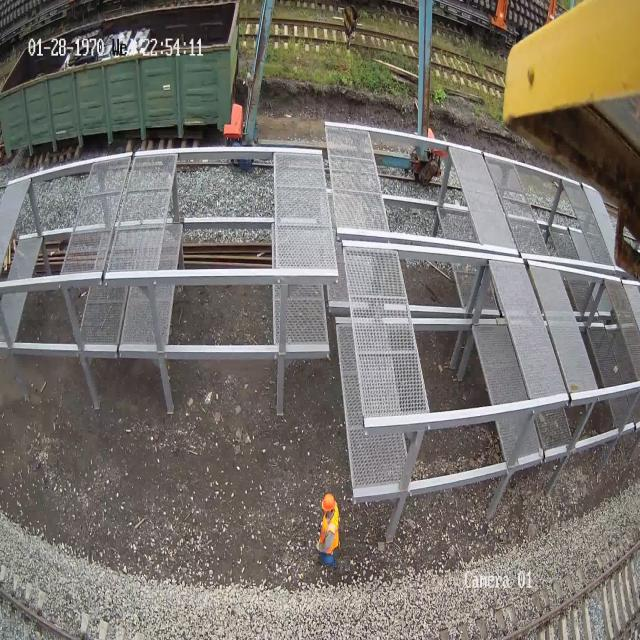Helmet: (321, 493, 335, 511)
Person: (316, 493, 340, 570)
